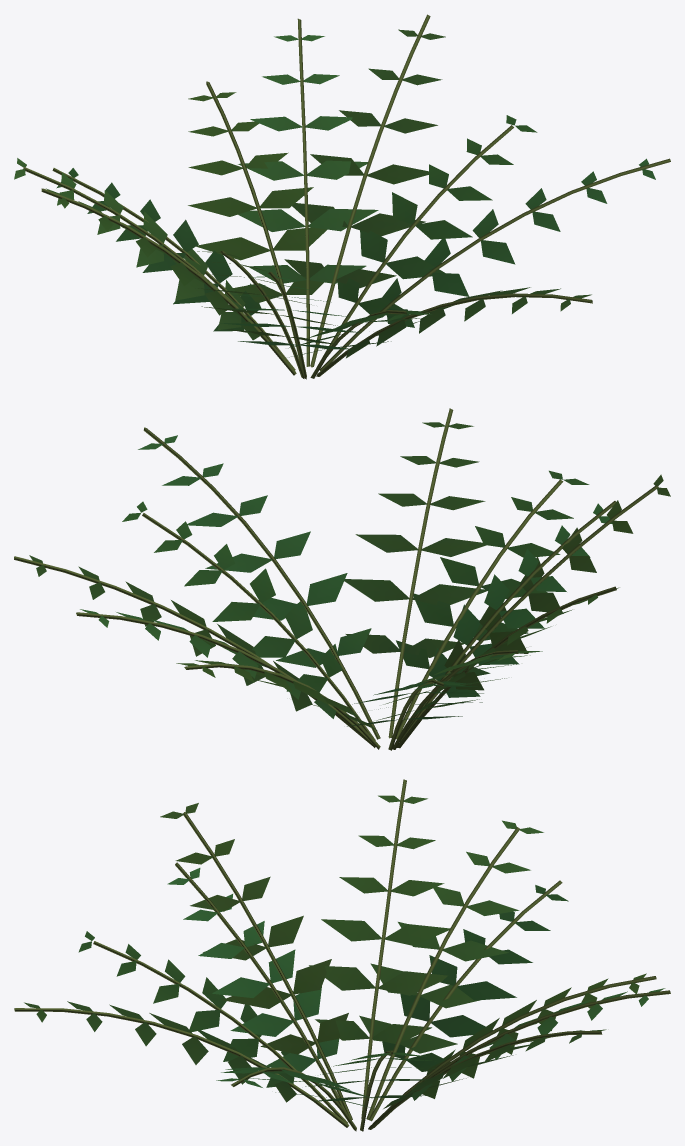
The model's file is fern-sword-a.lod1.glb.
3 views of the same model, one above another, from view 1: azimuth 30°, elevation 25°; view 2: azimuth 150°, elevation 25°; view 3: azimuth 270°, elevation 25° (orthographic). The views are drawn at different scales.
Visible parts, largest first — view 1: fern-sword-a.lod1; view 2: fern-sword-a.lod1; view 3: fern-sword-a.lod1.
Part boxes in pixels (bbox=[...]): fern-sword-a.lod1: bbox=[14, 14, 670, 379]; fern-sword-a.lod1: bbox=[14, 408, 670, 750]; fern-sword-a.lod1: bbox=[14, 779, 670, 1131].
Bounding box in the file's own units: 1.4 × 0.5664 × 1.47.
